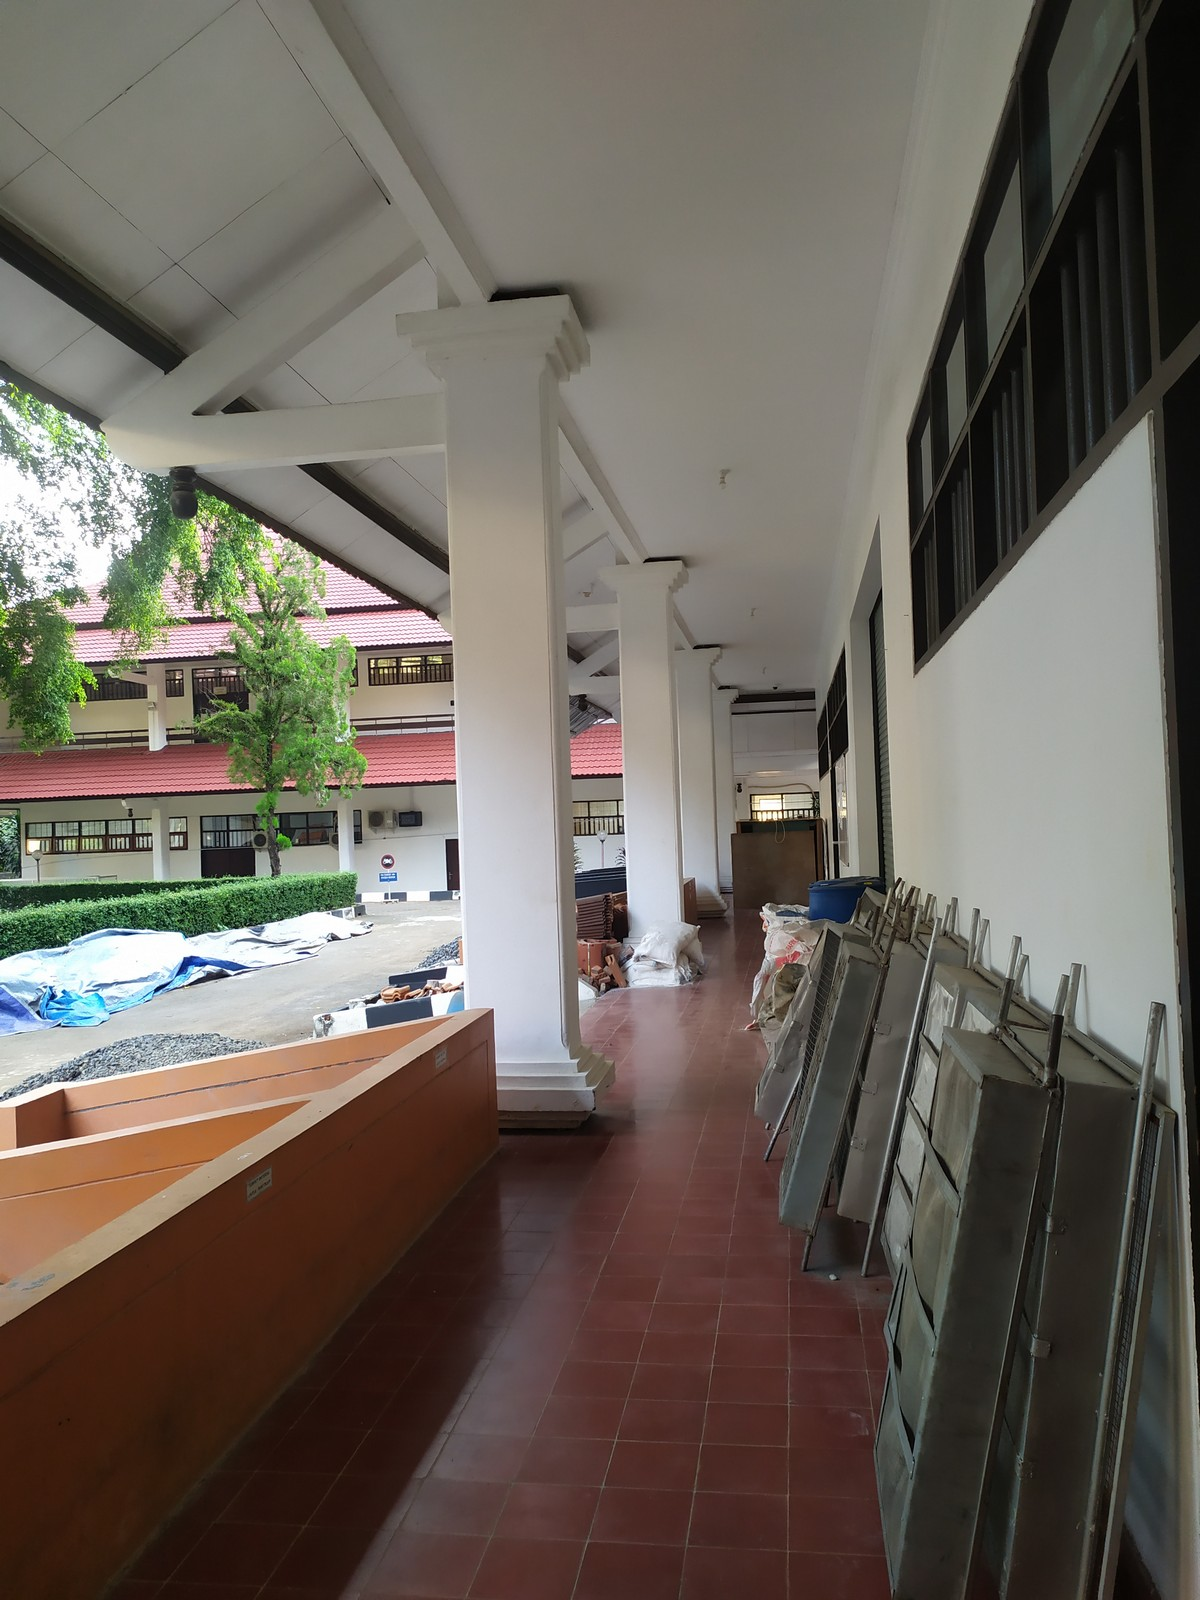concrete beam: (192, 389, 456, 479)
concrete column: (425, 341, 599, 1070), (615, 572, 689, 947)
